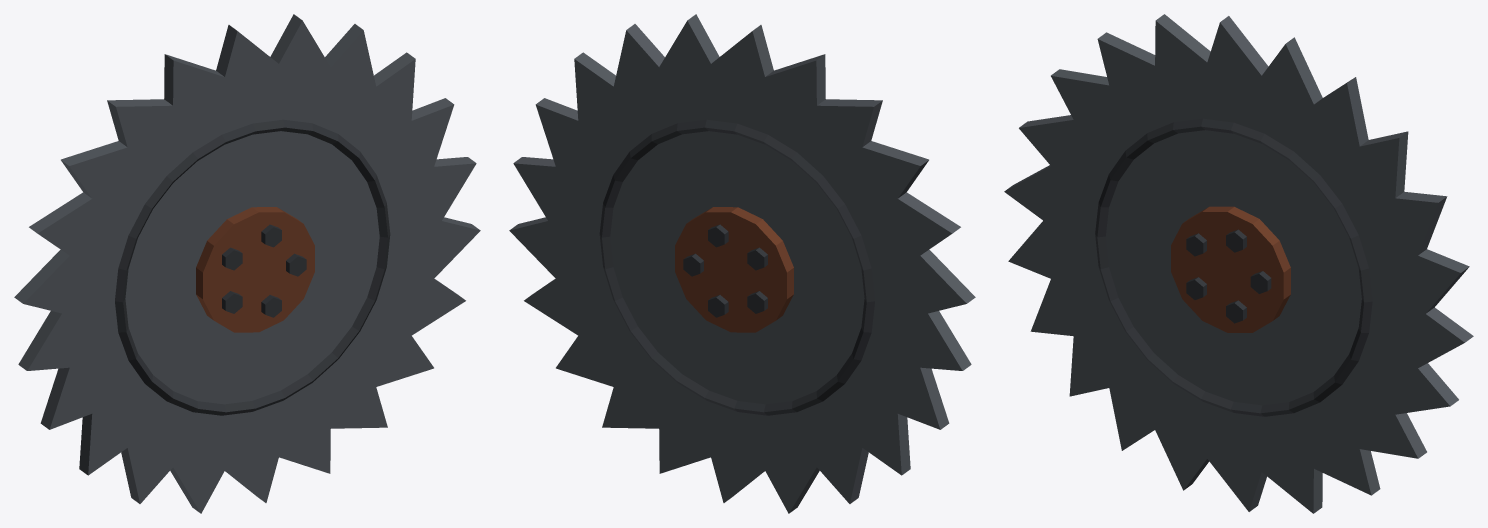
The model's file is saw.glb.
3 renders of one model, left to right at view 1: azimuth 30°, elevation 25°; view 2: azimuth 150°, elevation 25°; view 3: azimuth 330°, elevation 25°, orthographic.
Parts seen in each view (by area): view 1: Saw; view 2: Saw; view 3: Saw.
Part boxes in pixels (x1,y1,x2,y2): Saw: [14, 14, 480, 513]; Saw: [509, 14, 975, 513]; Saw: [1004, 14, 1473, 513].
Size of the model in its own units: 1.04 by 1.04 by 0.12.
